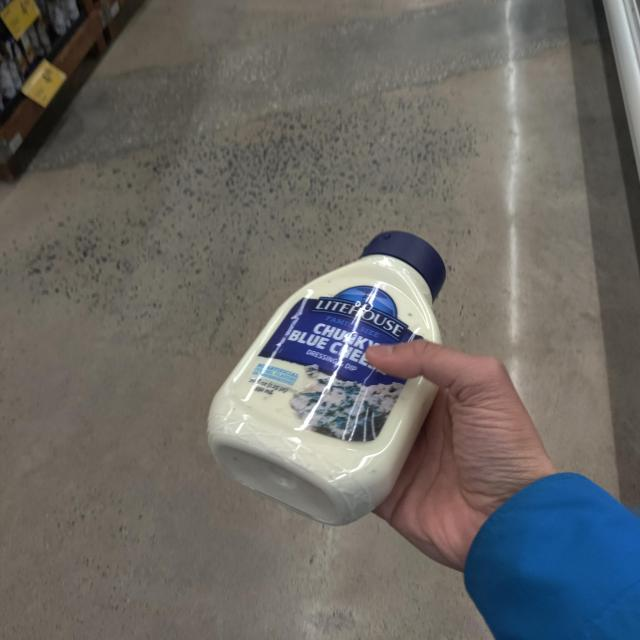Sauce: (199, 222, 463, 518)
